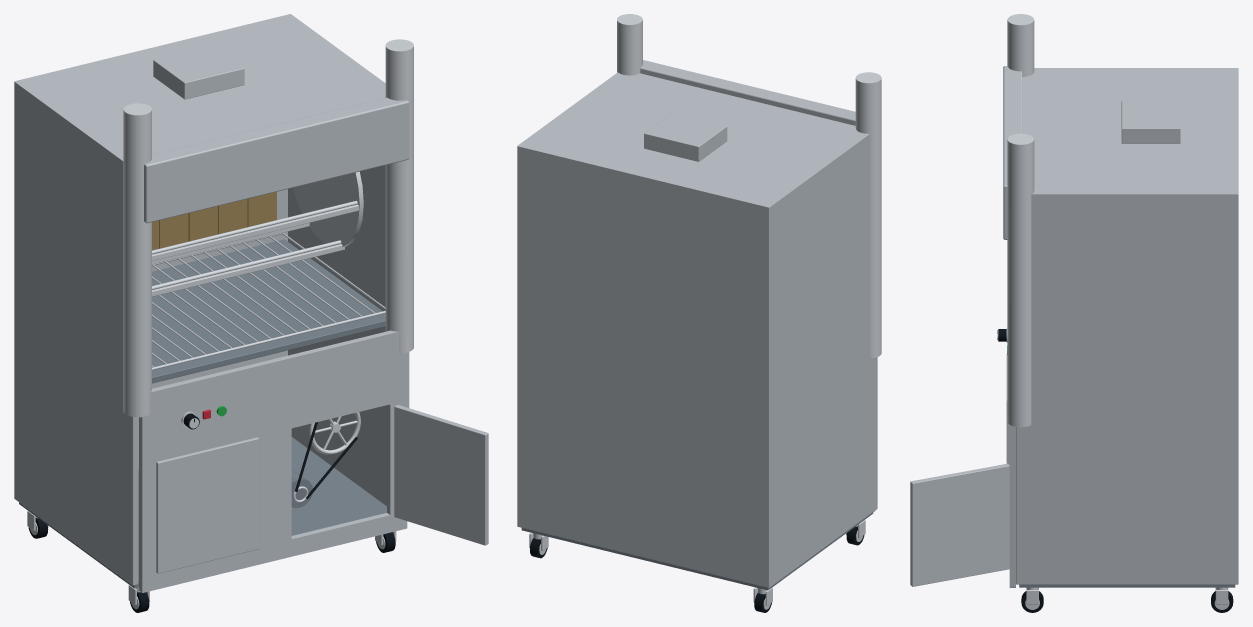
File: horno-pollero-ecologico-v1.glb
3 renders of one model, left to right at view 1: azimuth 30°, elevation 25°; view 2: azimuth 150°, elevation 25°; view 3: azimuth 270°, elevation 25°, orthographic. The views are drawn at different scales.
Visible parts, largest first — view 1: Acero_satinado, Acero_pulido, Interior_acero, Refractario_referencial, Mandos_y_goma; view 2: Acero_satinado, Acero_pulido, Interior_acero, Mandos_y_goma; view 3: Acero_satinado, Acero_pulido, Interior_acero, Mandos_y_goma.
Boxes of the visible parts, x1,y1,x2,y2 form: Acero_satinado: (14,14,488,592); Acero_pulido: (27,39,413,609); Interior_acero: (19,239,386,588); Refractario_referencial: (152,192,276,250); Mandos_y_goma: (28,413,395,612); Acero_satinado: (517,60,877,587); Acero_pulido: (529,14,881,609); Interior_acero: (521,512,873,590); Mandos_y_goma: (530,526,864,612); Acero_satinado: (910,66,1238,587); Acero_pulido: (997,14,1229,609); Interior_acero: (1019,584,1235,587); Mandos_y_goma: (998,329,1233,612).
Size of the model in its own units: 1.04 by 1.65 by 1.03.
